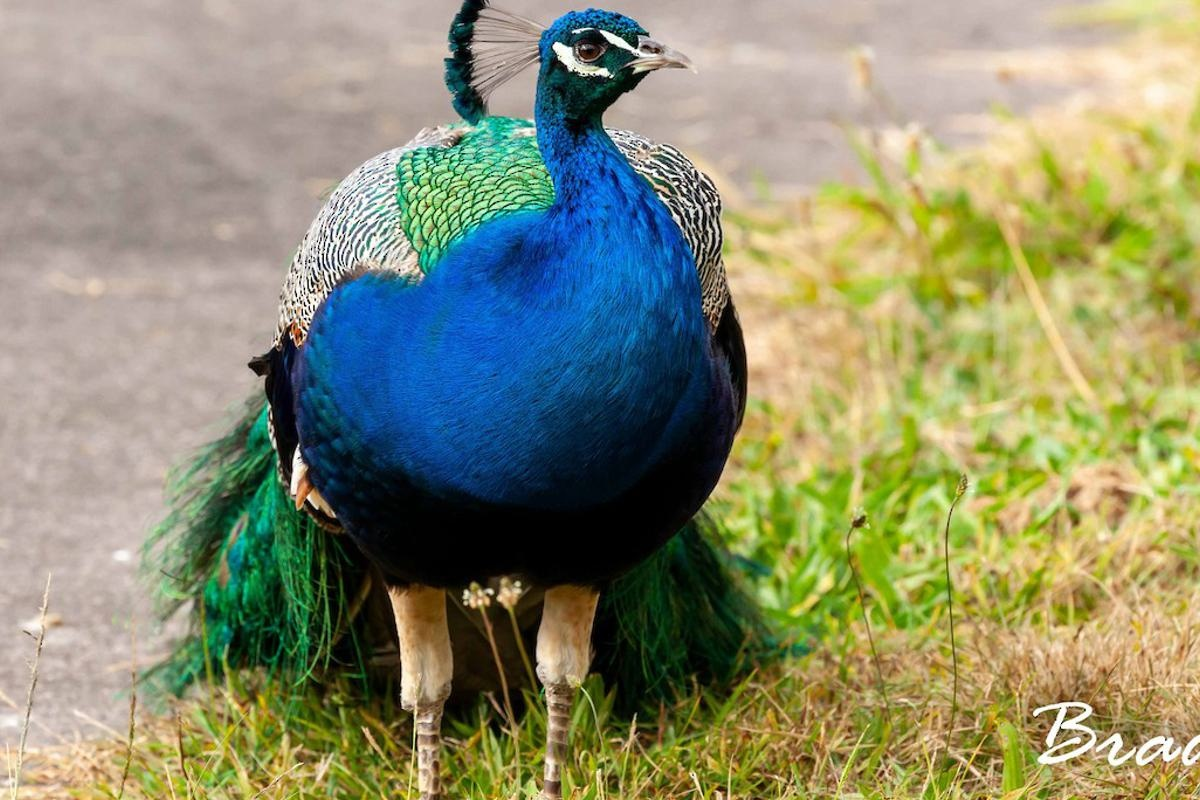peacock: (280, 28, 809, 726)
